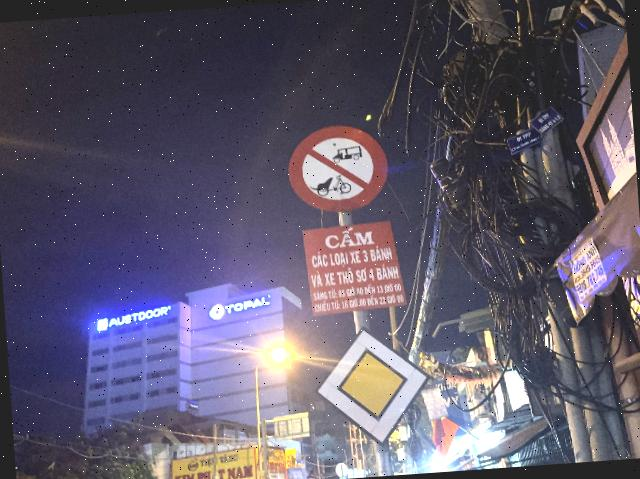bat-dau-duong-uu-tien: (310, 322, 434, 450)
cam-xe-3-banh-xe-tho-so-4-banh: (284, 122, 392, 214)
